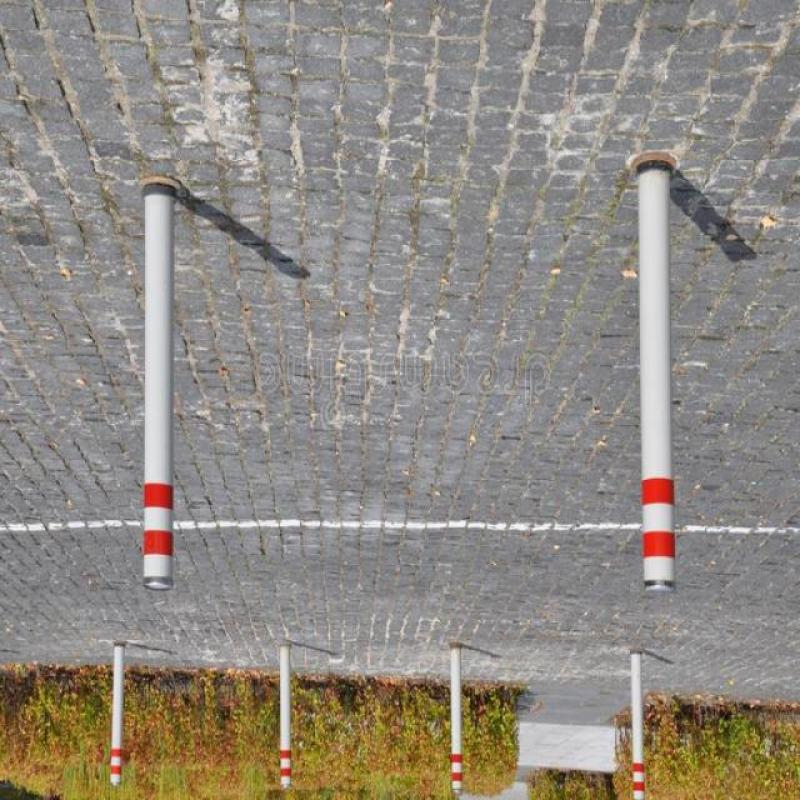pillar: (629, 144, 679, 605), (139, 179, 179, 599), (441, 635, 472, 797), (622, 644, 650, 798), (106, 636, 130, 794), (275, 636, 294, 790)
